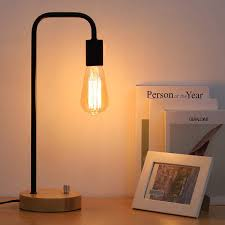bulb: (72, 46, 114, 123)
